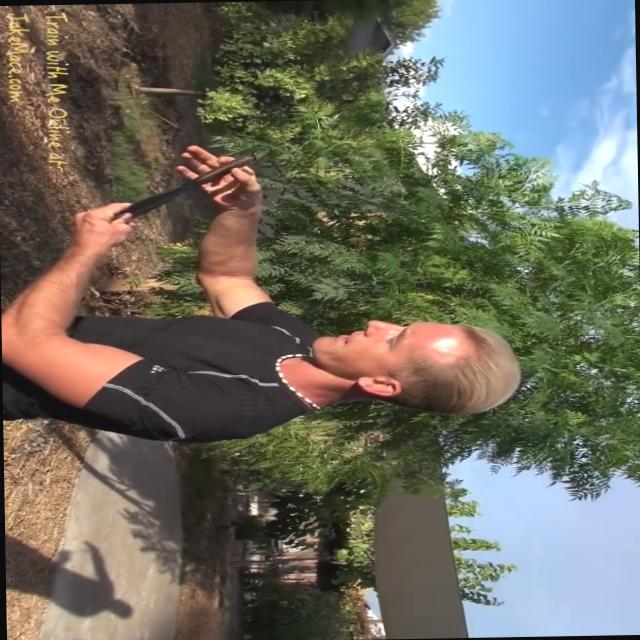knife: (93, 150, 284, 238)
